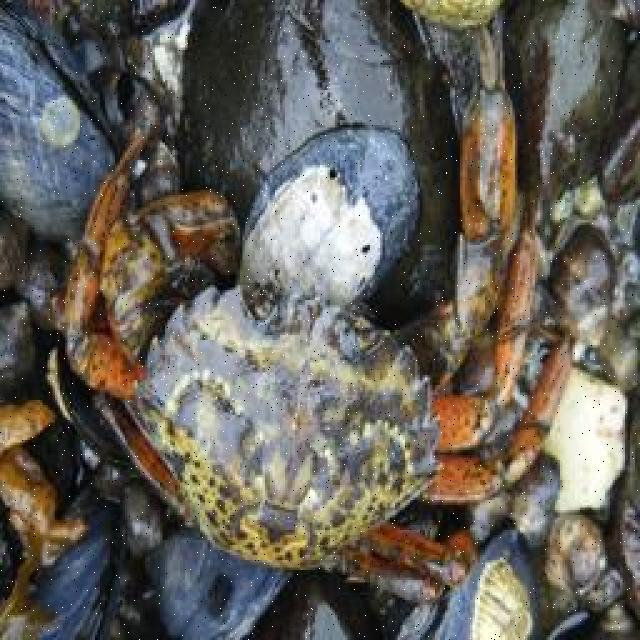reefs: (65, 3, 576, 603)
